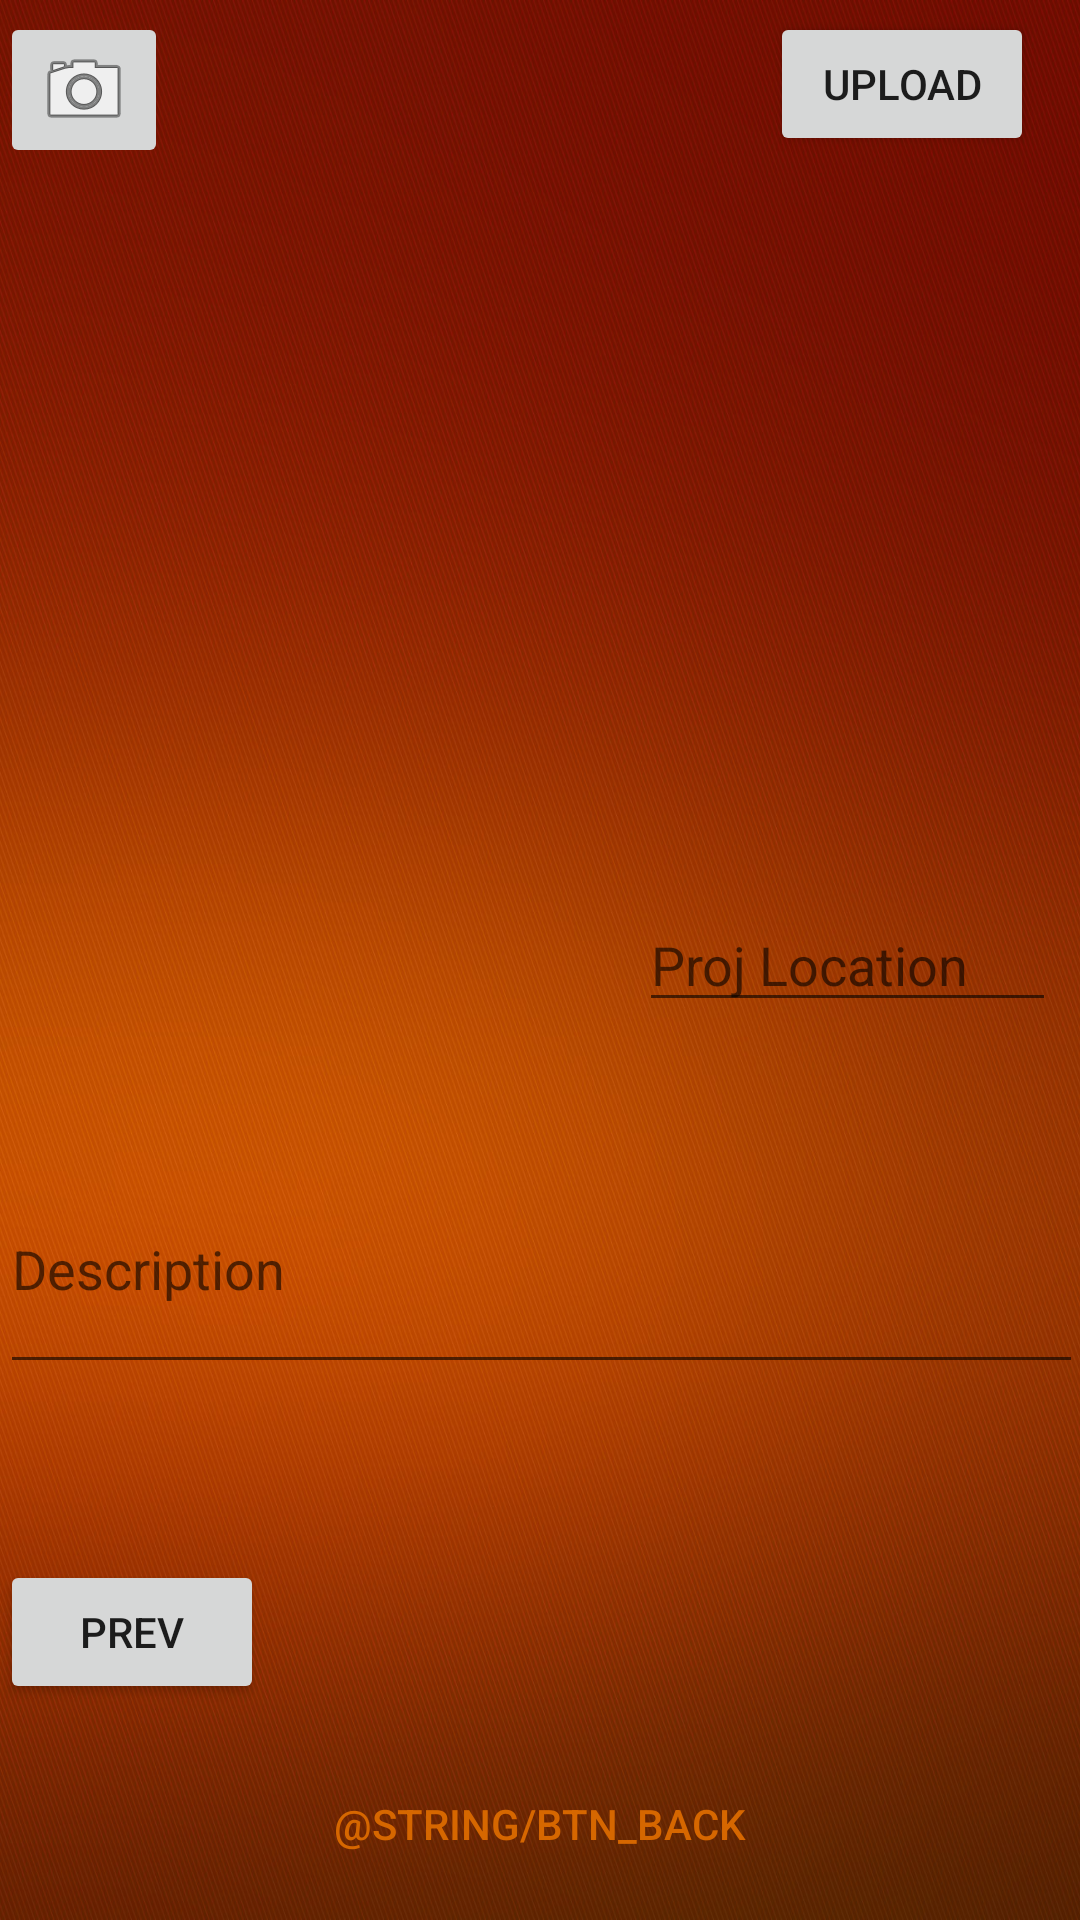

Where to tap for icons on this 1080 × 1920 app screen, as [x,y]:
camera: [84,90]
